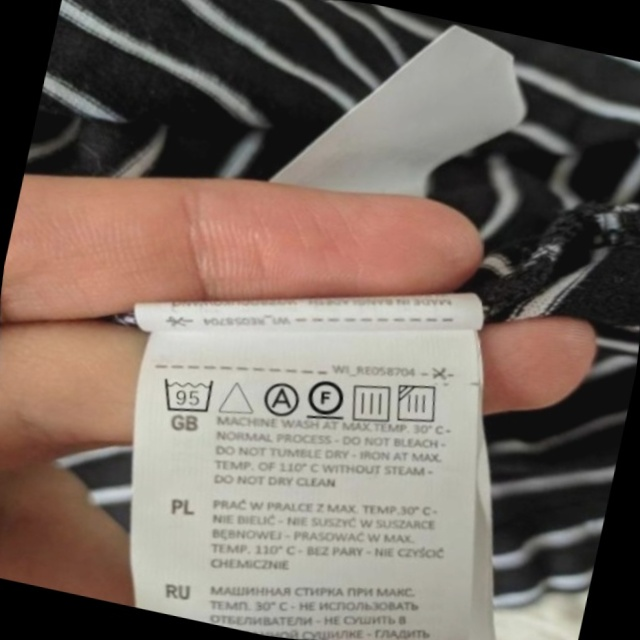95C: (154, 365, 224, 424)
bleach: (212, 370, 261, 424)
drip_dry: (342, 373, 401, 431)
drip_dry_in_shade: (389, 374, 450, 434)
dry_clean: (254, 374, 306, 424)
dry_clean_petrol_only: (299, 368, 354, 428)
